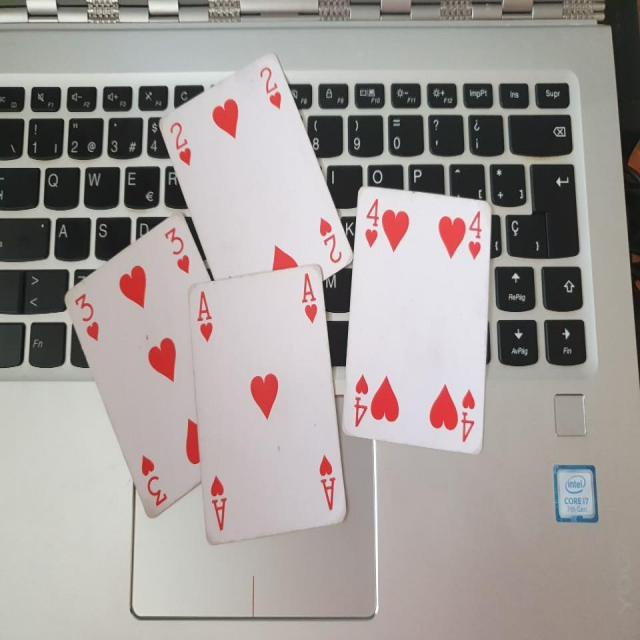2 Hearts: (157, 44, 353, 292)
3 Hearts: (62, 209, 235, 526)
4 Hearts: (332, 186, 505, 459)
A Hearts: (185, 263, 352, 544)
